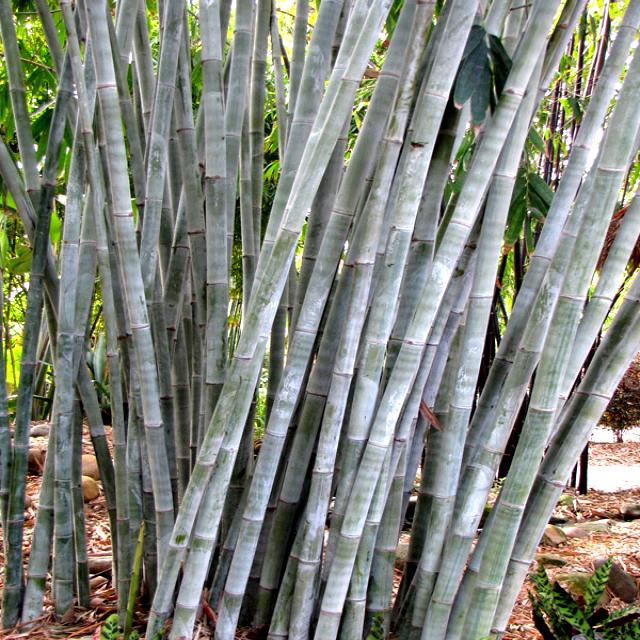Clumping: (0, 0, 619, 640)
